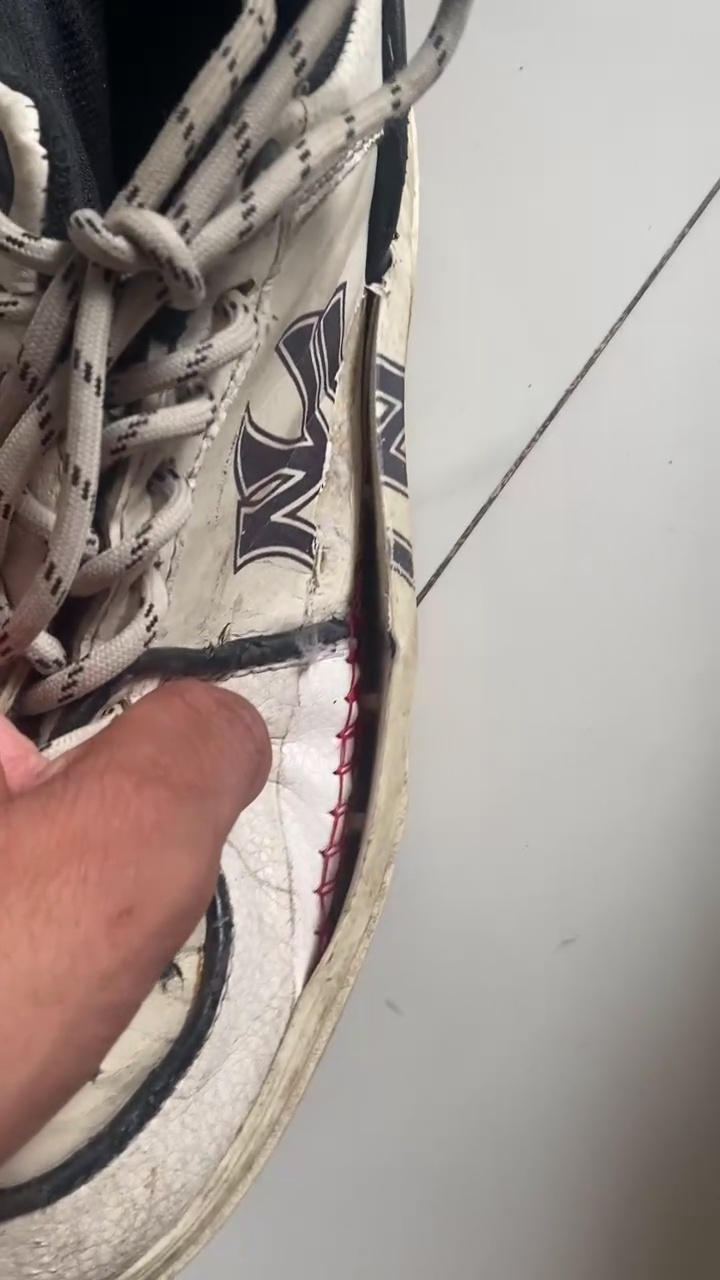bonding: (267, 297, 405, 949)
